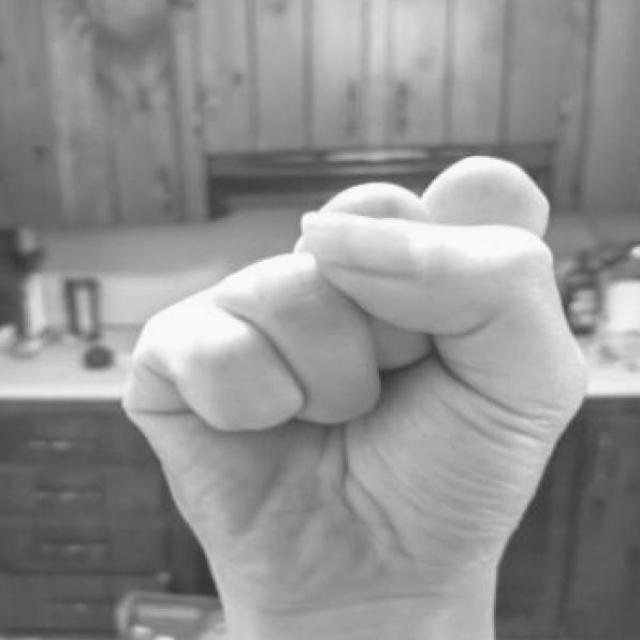S: (104, 151, 609, 640)
